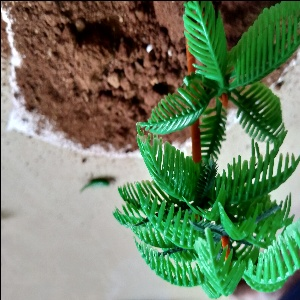plant: (114, 3, 300, 299)
